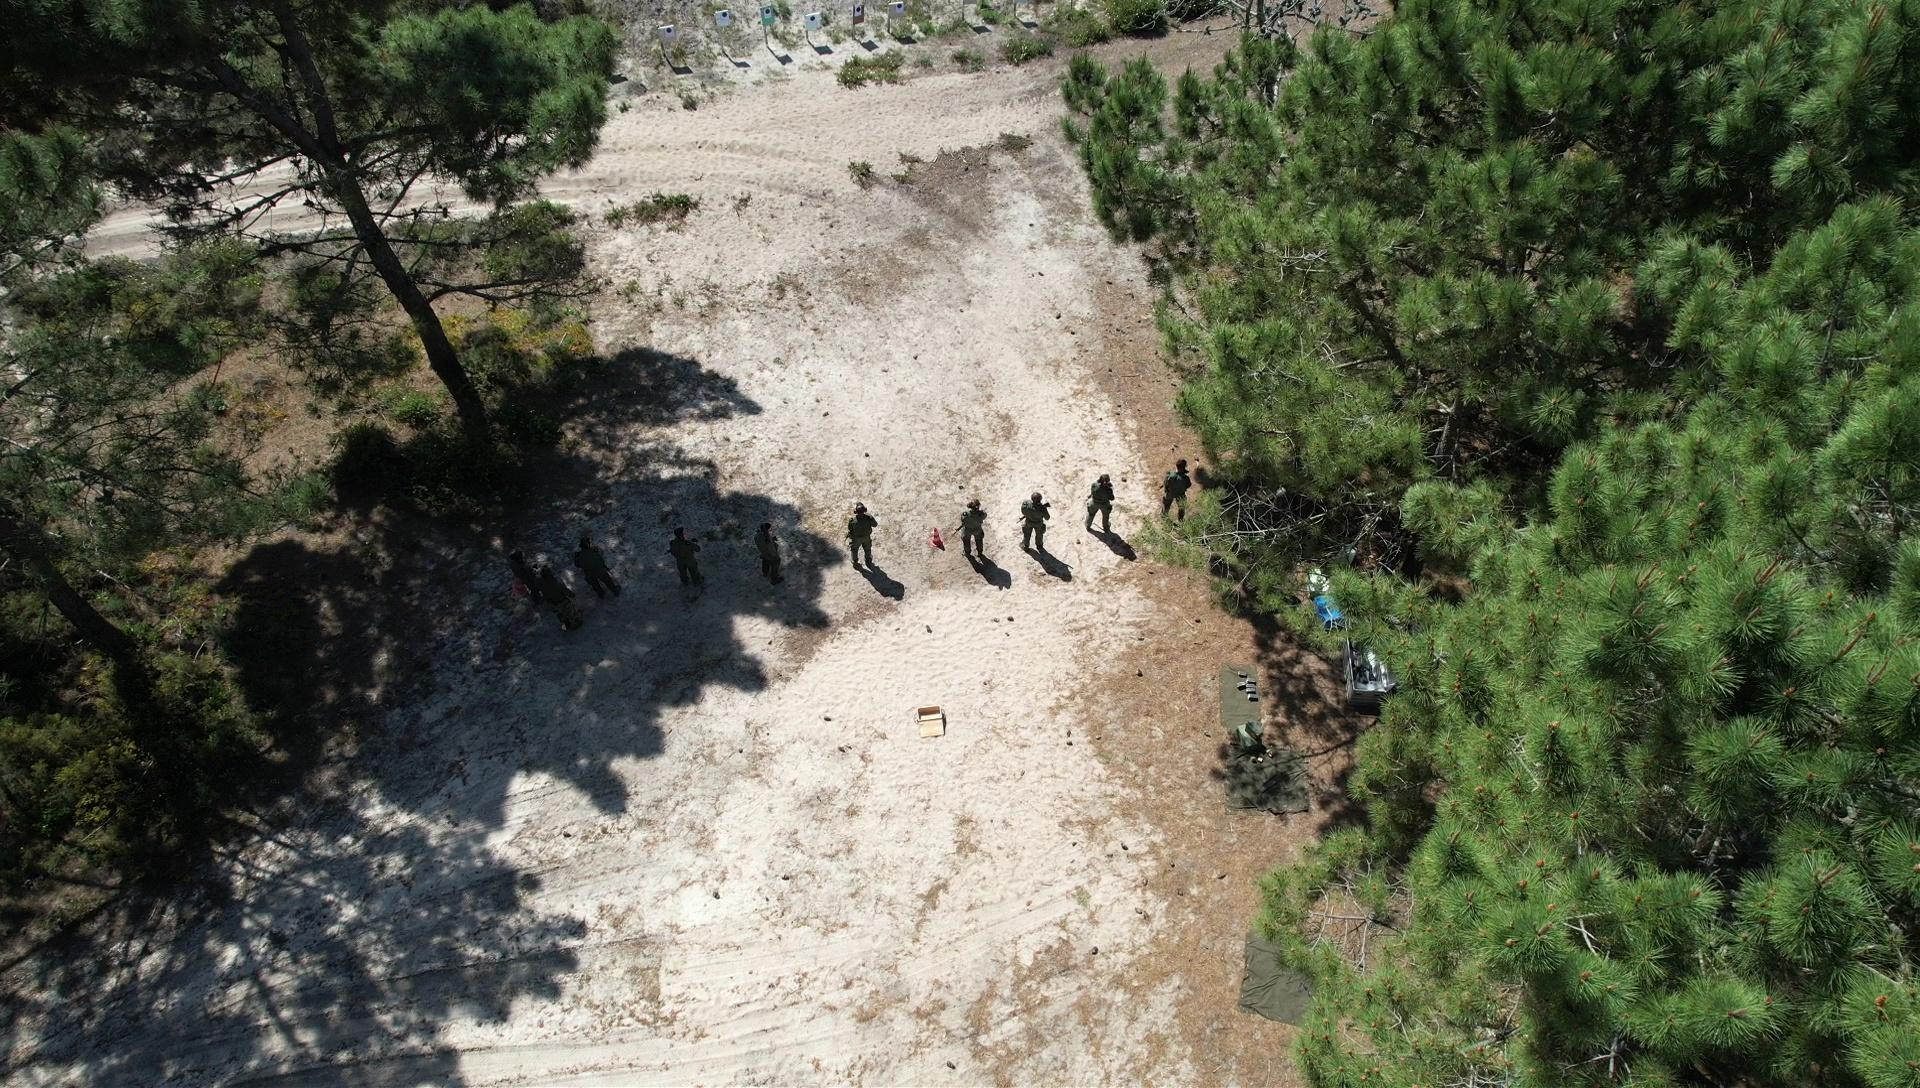Soldier: (663, 521, 713, 609), (570, 530, 625, 608), (837, 499, 884, 589), (1080, 473, 1129, 553), (531, 562, 579, 637), (752, 516, 795, 597), (1160, 454, 1205, 531), (951, 502, 1000, 568), (1015, 491, 1059, 562), (508, 550, 545, 607)
